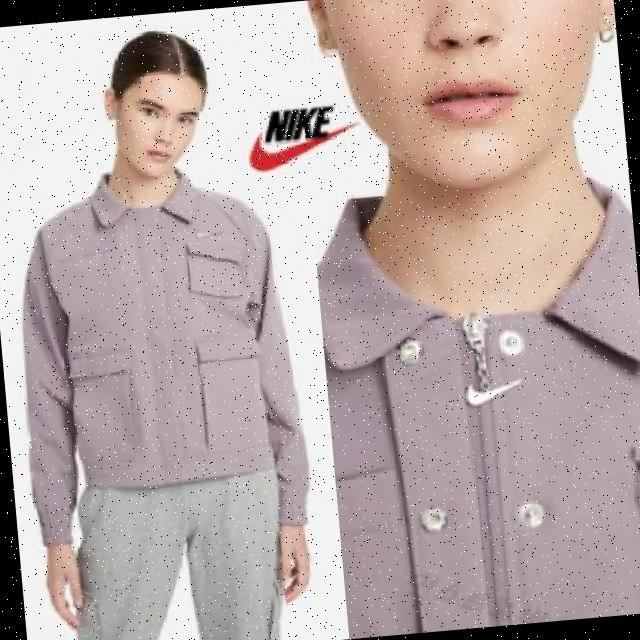Nike: (241, 100, 362, 170), (462, 376, 518, 406)
